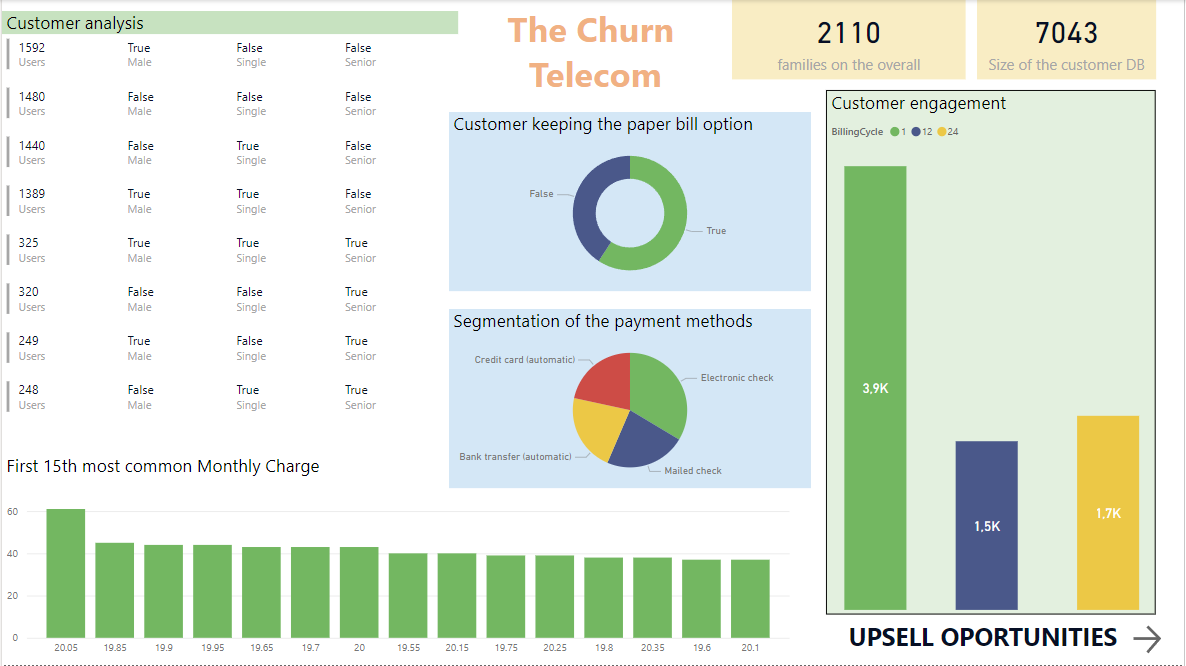

Layout of this report page (visuals, bound fields, positions):
{"tool":"powerbi","page":{"name":"Introduction","canvas":[1280,720],"ordinal":0},"visuals":[{"type":"columnChart","title":"Customer engagement","fields":{"Category":["THIERY-Customer-Churn-Telco.BillingCycle"],"Y":["CountNonNull(THIERY-Customer-Churn-Telco.BillingMethod)"],"Series":["THIERY-Customer-Churn-Telco.BillingCycle"]},"box":[892.8,97.6,356.8,568],"z":0},{"type":"card","fields":{"Values":["CountNonNull(THIERY-Customer-Churn-Telco.UID)"]},"box":[1056,0,193.6,86.4],"z":1000},{"type":"multiRowCard","title":"Customer analysis","fields":{"Values":["CountNonNull(THIERY-Customer-Churn-Telco.UID)","THIERY-Customer-Churn-Telco.Male","THIERY-Customer-Churn-Telco.Single","THIERY-Customer-Churn-Telco.Senior"]},"box":[0,11.6,494.2,480],"z":2000},{"type":"card","fields":{"Values":["CountNonNull(THIERY-Customer-Churn-Telco.Family)"]},"box":[790.4,0,252.8,86.4],"z":3000},{"type":"lineClusteredColumnComboChart","title":"First 15th most common Monthly Charge","fields":{"Category":["THIERY-Customer-Churn-Telco.MonthlyCharges"],"Y":["CountNonNull(THIERY-Customer-Churn-Telco.CustomerValue)"]},"box":[0,491.6,857.8,228.4],"z":4000},{"type":"donutChart","title":"Customer keeping the paper bill option","fields":{"Category":["THIERY-Customer-Churn-Telco.PaperBill"],"Y":["CountNonNull(THIERY-Customer-Churn-Telco.PaperBill)"]},"box":[483.6,121.8,392,193.8],"z":5000},{"type":"textbox","box":[494.4,0,296,121.6],"z":6000},{"type":"pieChart","title":"Segmentation of the payment methods","fields":{"Category":["THIERY-Customer-Churn-Telco.BillingMethod"],"Y":["CountNonNull(THIERY-Customer-Churn-Telco.BillingMethod)"]},"box":[483.6,334.2,392,193.8],"z":7000},{"type":"textbox","box":[912,665.6,318.4,54.4],"z":8000},{"type":"actionButton","box":[1219.2,672,59.2,40],"z":9000}]}

Visuals, with their boxes in screenshot pixels (x1, y1, x2, y2), scaled from the page's 1280x720 canvas onto the 1186x666 screenshot:
"Customer engagement" columnChart: rect(827, 90, 1158, 616)
card - CountNonNull(THIERY-Customer-Churn-Telco.UID): rect(978, 0, 1158, 80)
"Customer analysis" multiRowCard: rect(0, 11, 458, 455)
card - CountNonNull(THIERY-Customer-Churn-Telco.Family): rect(732, 0, 967, 80)
"First 15th most common Monthly Charge" lineClusteredColumnComboChart: rect(0, 455, 795, 665)
"Customer keeping the paper bill option" donutChart: rect(448, 113, 811, 292)
textbox: rect(458, 0, 732, 112)
"Segmentation of the payment methods" pieChart: rect(448, 309, 811, 488)
textbox: rect(845, 616, 1140, 665)
actionButton: rect(1130, 622, 1185, 659)
